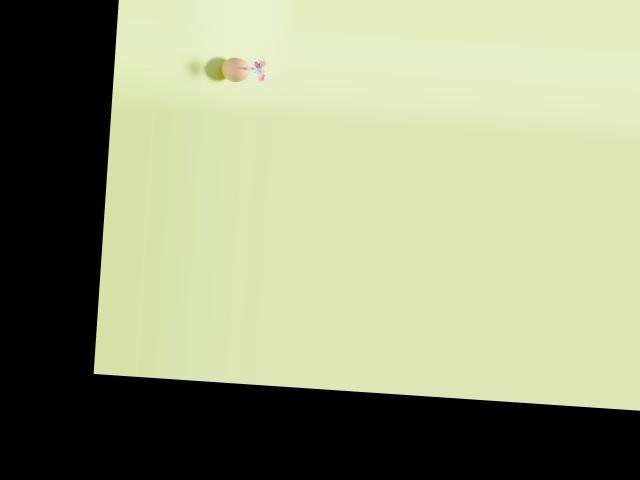egg: (221, 56, 250, 82)
